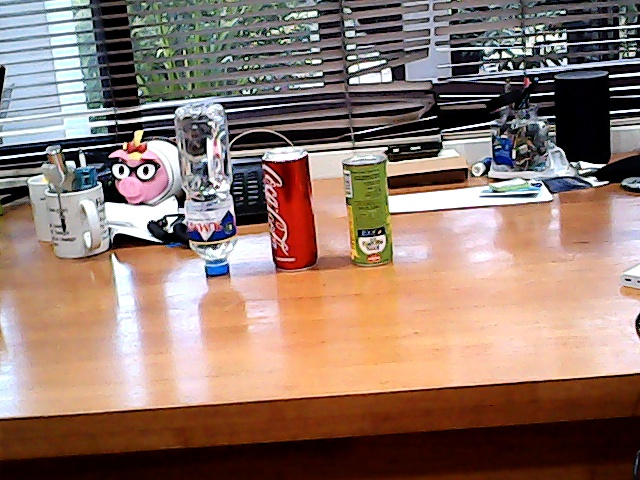Cola: (250, 141, 323, 281)
Pine Juice: (333, 142, 412, 281)
Summit Water: (159, 93, 248, 287)
